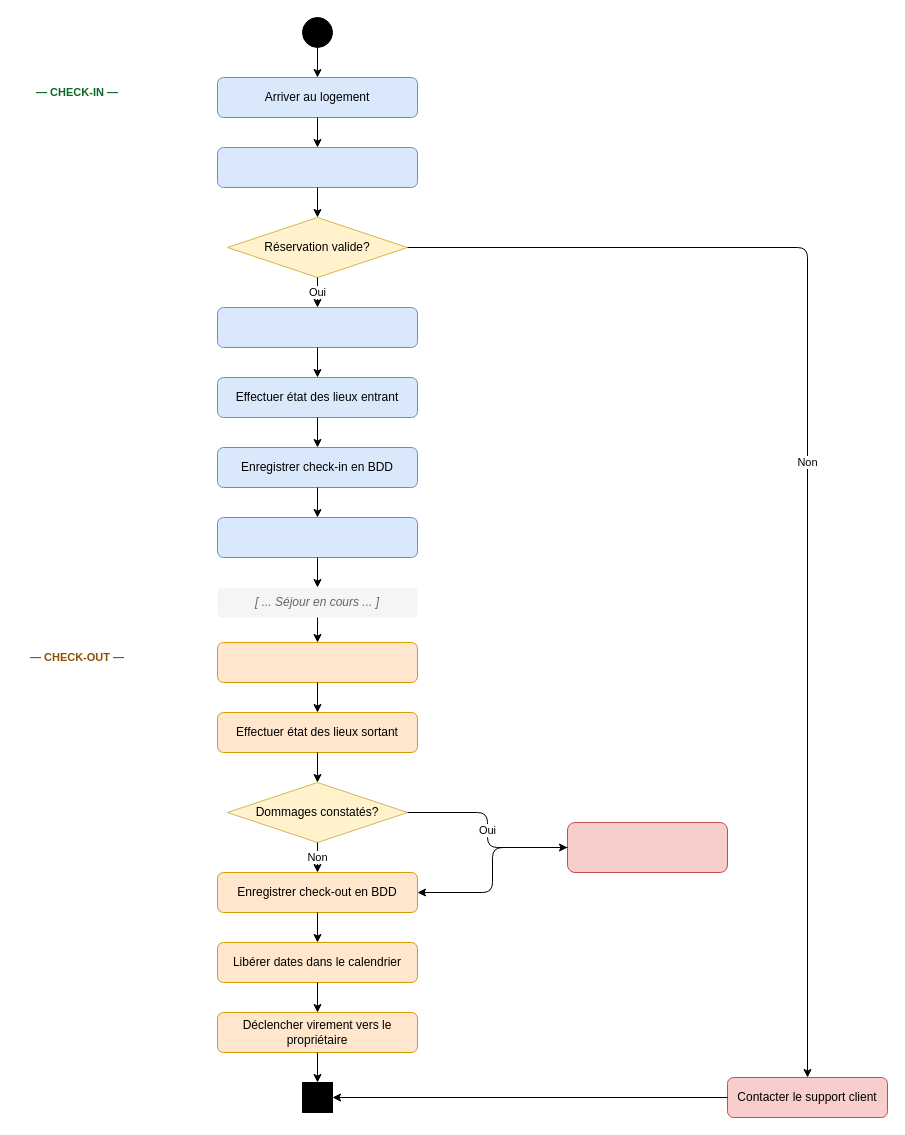
This 905x1135 diagram has some shape labels left out. The centre of each missing label's shape, as x and y in pixels:
Client prépare son départ: point 317,662
Créer rapport de dommages et retenir caution: point 647,847
Présenter confirmation de réservation: point 317,167
Remettre accès au logement: point 317,537
Vérifier identité du client: point 317,327
